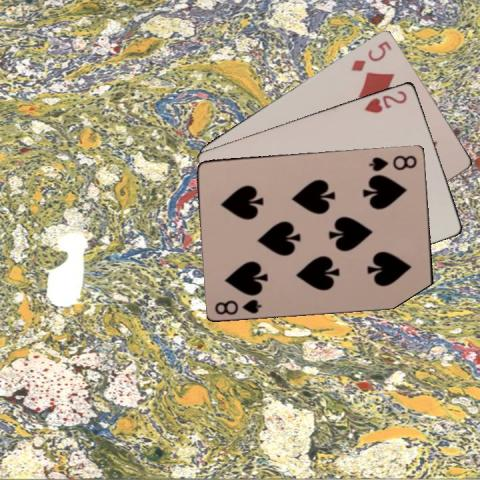2h: (361, 87, 409, 114)
5d: (347, 37, 394, 73)
8s: (366, 152, 419, 172), (212, 296, 263, 316)
